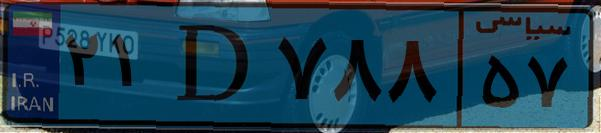1: (110, 28, 158, 98)
2: (57, 26, 110, 100)
5: (475, 38, 525, 113)
7: (270, 28, 330, 110), (525, 38, 570, 115)
8: (385, 28, 445, 110), (330, 28, 385, 110)
D: (158, 12, 270, 120)
